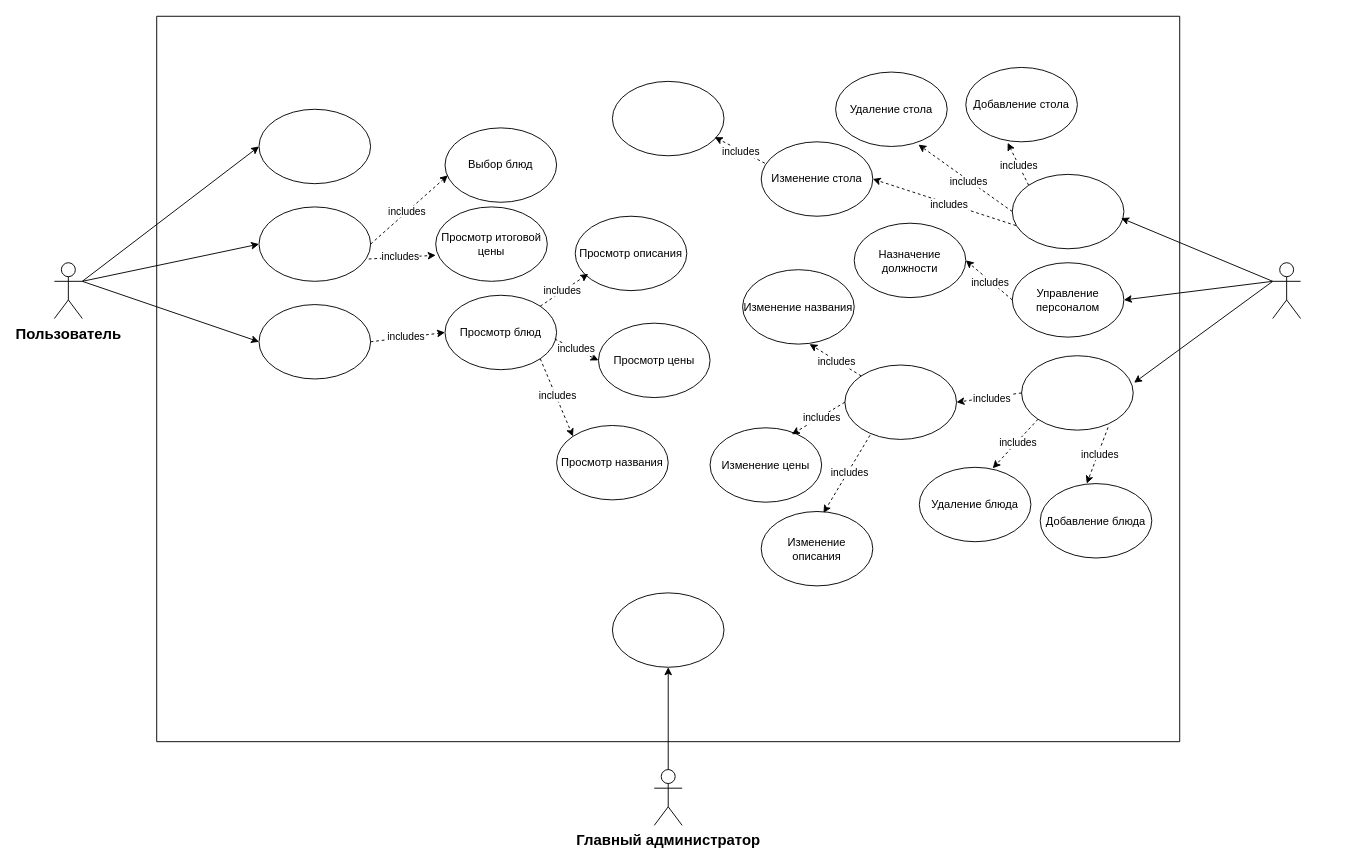
This 1361x866 diagram has some shape labels left out. The centre of each missing label's shape, as x and y in pixels:
Администратор: the point at 1286,290
Бронирование столика: the point at 314,146
Назначение администратора: the point at 667,629
Назначение официанта: the point at 667,118
Оформление заказа: the point at 314,243
Просмотр меню: the point at 314,341
Редактирование блюд: the point at 900,401
Редактирование меню: the point at 1077,392
Управление столами: the point at 1067,211
